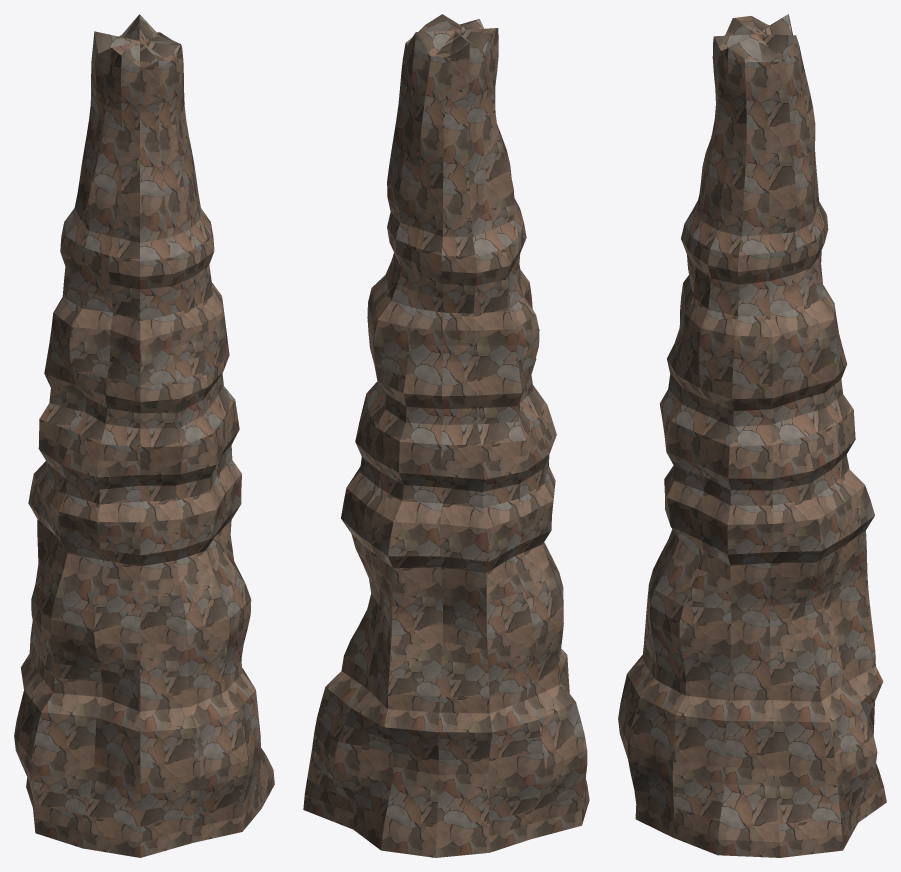
The model's file is CanyonSpireL_Stump.gltf.
The picture shows the model from 3 angles, left to right: view 1: azimuth 30°, elevation 25°; view 2: azimuth 150°, elevation 25°; view 3: azimuth 270°, elevation 25°; orthographic projection. The views are drawn at different scales.
Visible parts, largest first — view 1: CanyonSpireL_Stump; view 2: CanyonSpireL_Stump; view 3: CanyonSpireL_Stump.
Part boxes in pixels (x1,y1,x2,y2): CanyonSpireL_Stump: [14, 14, 274, 857]; CanyonSpireL_Stump: [303, 14, 589, 857]; CanyonSpireL_Stump: [618, 14, 886, 857].
Size of the model in its own units: 33.58 by 102 by 32.32.
1 material, 1 textured.
